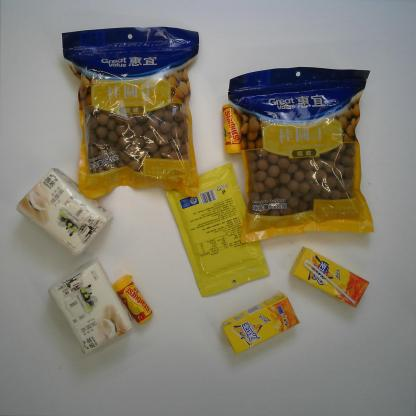Candy: (111, 273, 155, 326), (221, 102, 242, 156)
Dried Food: (226, 65, 376, 244), (60, 24, 202, 201)
Dried Fruit: (164, 162, 272, 299)
Drink: (219, 290, 301, 356), (288, 245, 370, 309)
Tissue: (15, 167, 115, 258), (47, 258, 135, 358)
